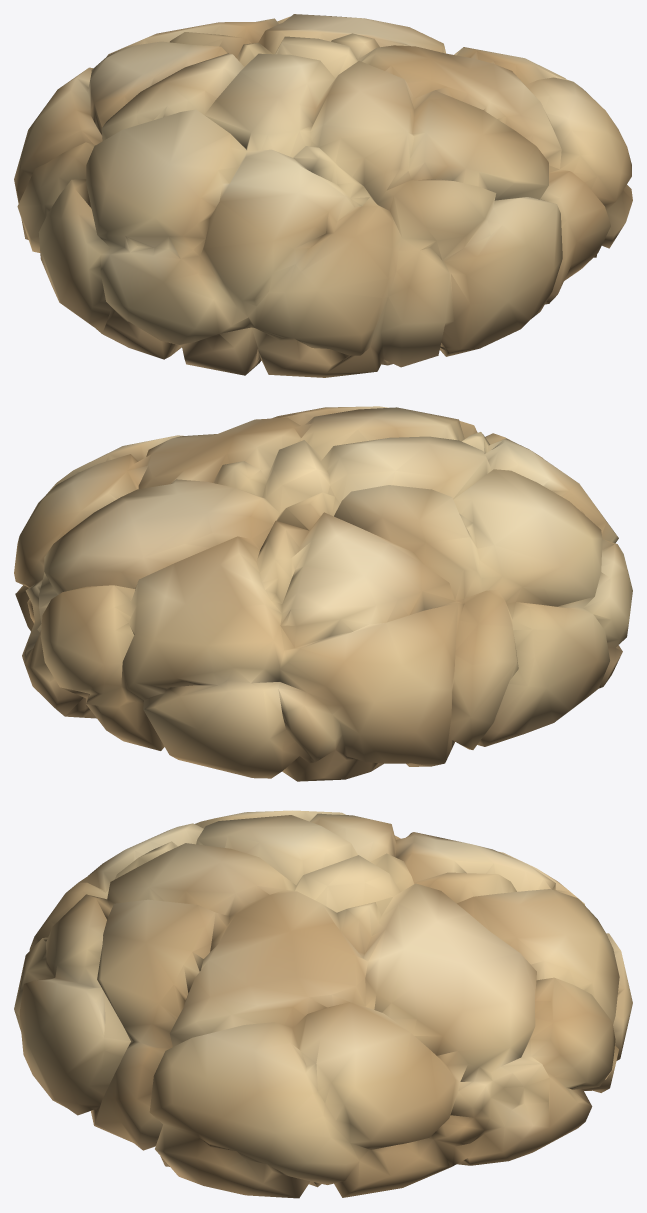
File: shore_sand_blister.glb
3 renders of one model, top to bottom at view 1: azimuth 30°, elevation 25°; view 2: azimuth 150°, elevation 25°; view 3: azimuth 270°, elevation 25°, orthographic.
Parts seen in each view (by area): view 1: shore_sand_blister; view 2: shore_sand_blister; view 3: shore_sand_blister.
Part boxes in pixels (box(x1,y1,x2,y2)): shore_sand_blister: box(14, 14, 632, 377); shore_sand_blister: box(14, 406, 632, 781); shore_sand_blister: box(14, 810, 632, 1198).
Size of the model in its own units: 2.5 by 0.8919 by 2.41.
